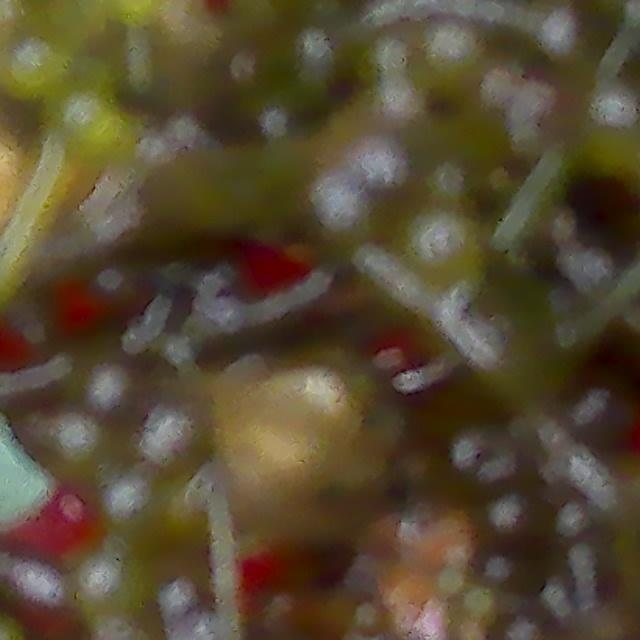SeaGrape: (135, 402, 211, 483), (480, 490, 548, 559), (86, 350, 148, 410), (48, 414, 109, 474), (59, 103, 120, 152), (5, 43, 59, 94)
